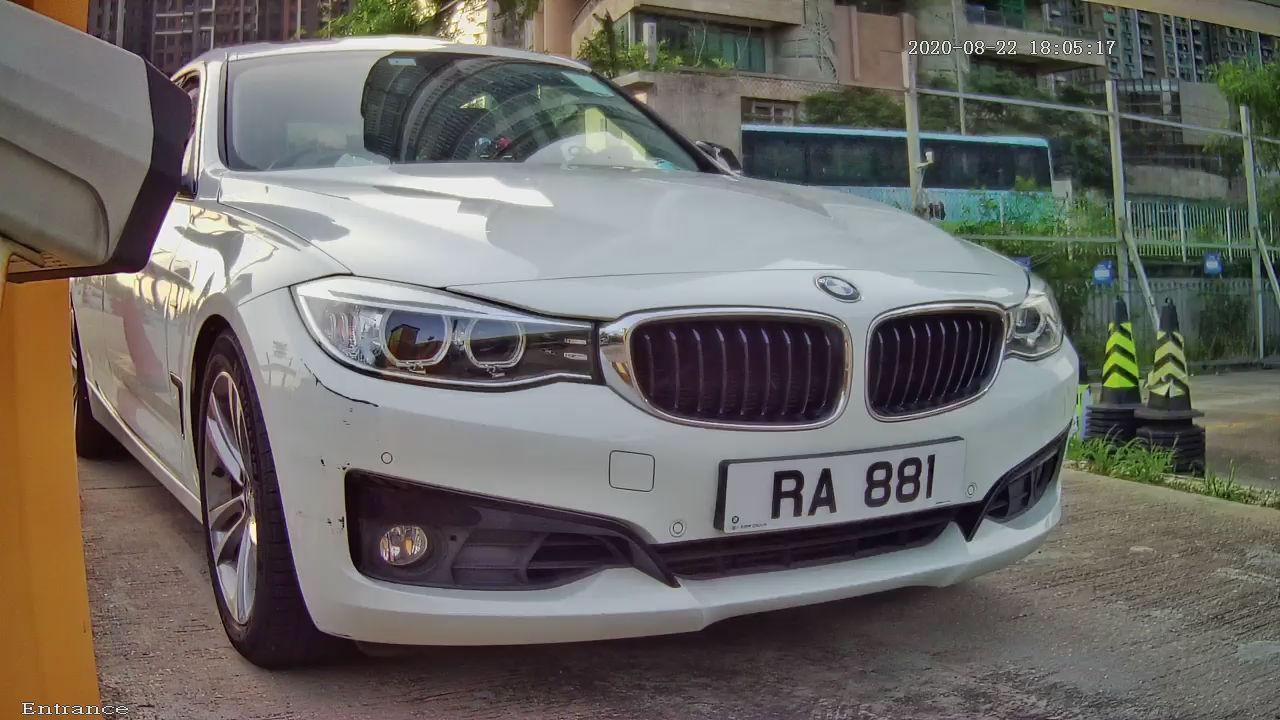Car: (58, 7, 1172, 701)
License Plate: (673, 397, 992, 570)
